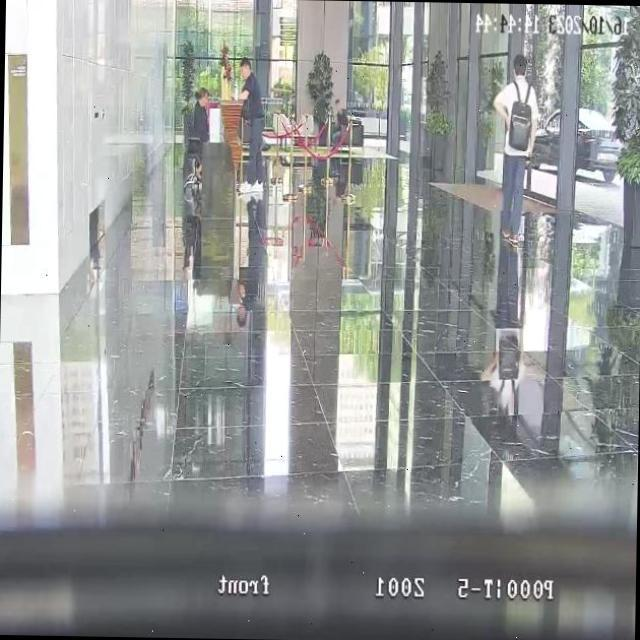person: (491, 53, 540, 248), (235, 56, 265, 185), (192, 86, 210, 150), (332, 98, 348, 150)
